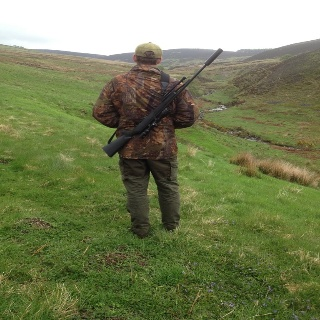rifle: (103, 47, 226, 159)
